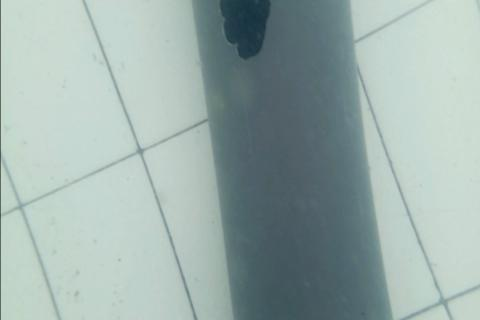kebocoran: (217, 0, 272, 61)
